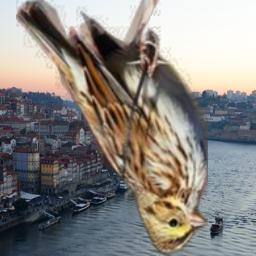Sparrow: (16, 0, 208, 256)
